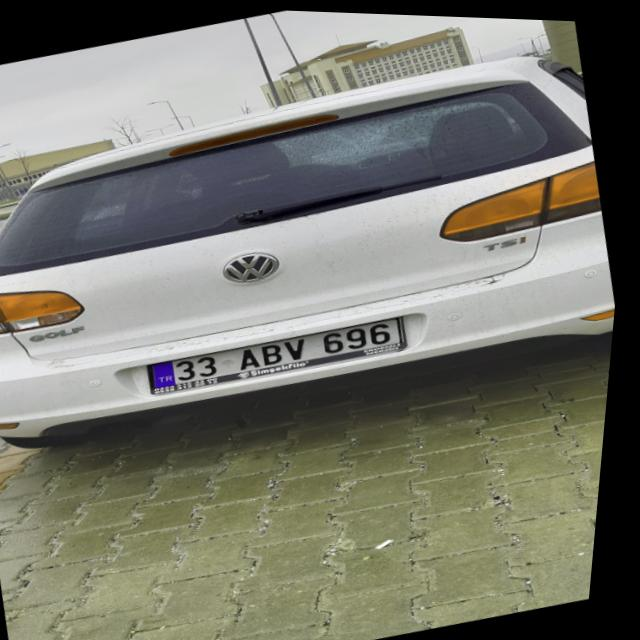license_plate: (153, 306, 410, 396)
